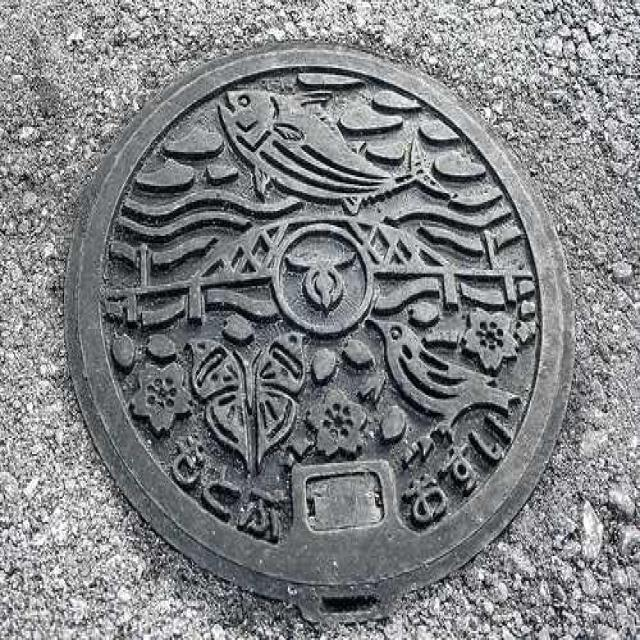manhole: (64, 43, 575, 624)
